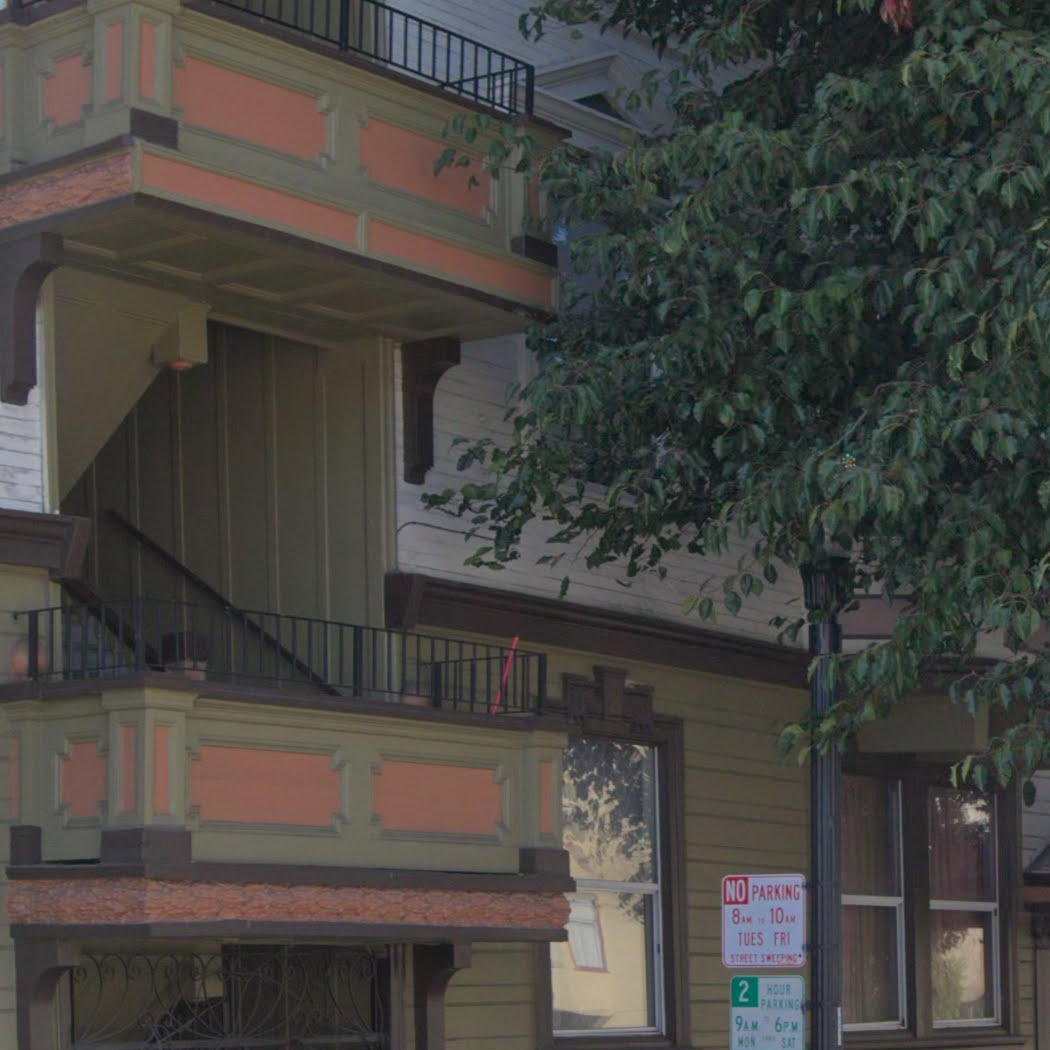2 Hour Parking: (729, 973, 810, 1049)
No Parking: (719, 872, 810, 969)
